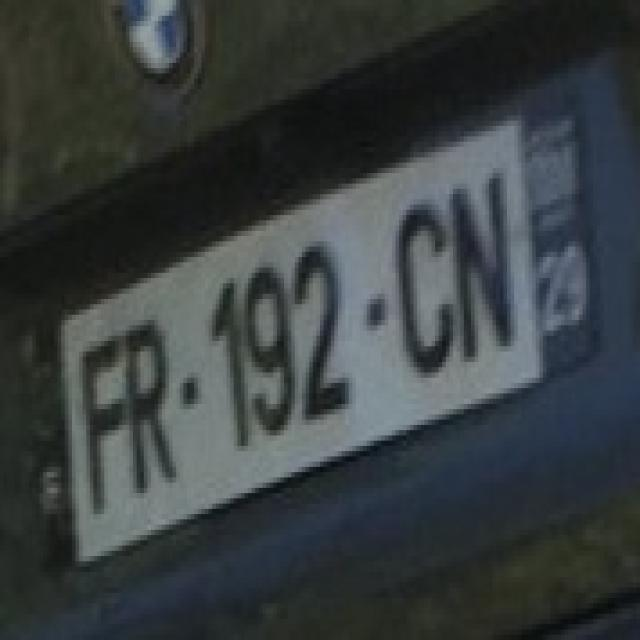Autre: (28, 84, 609, 587)
